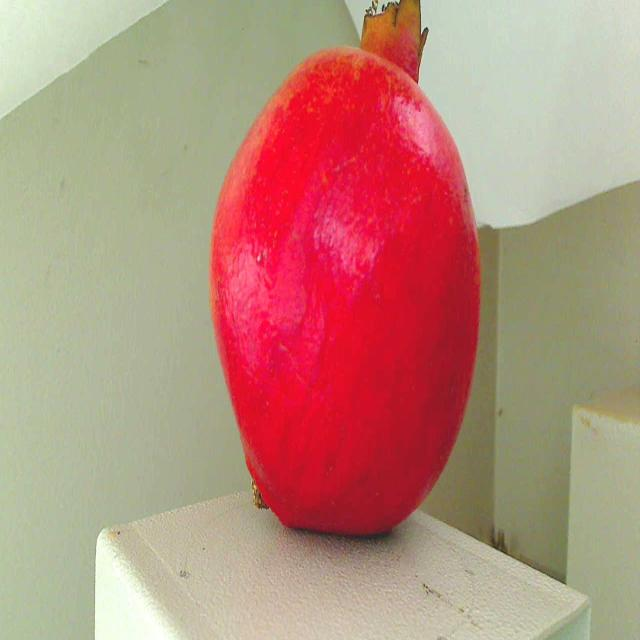pomegranate: (200, 0, 488, 554)
